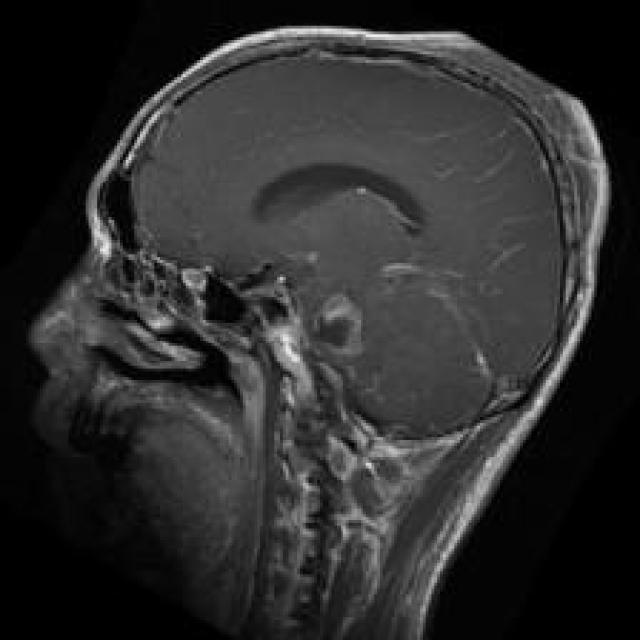glioma_tumor: (302, 274, 378, 373)
